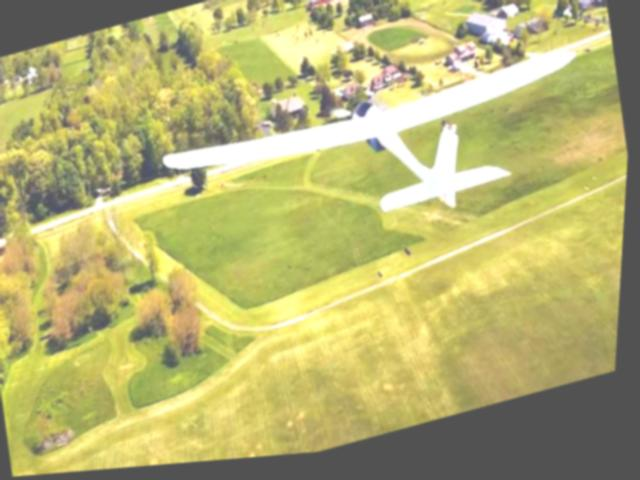iha: (152, 36, 604, 285)
